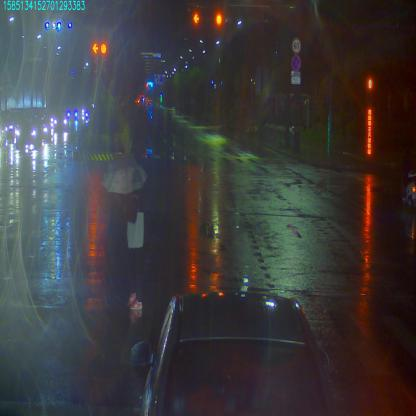traffic-light: (214, 10, 226, 28), (192, 9, 200, 30)
